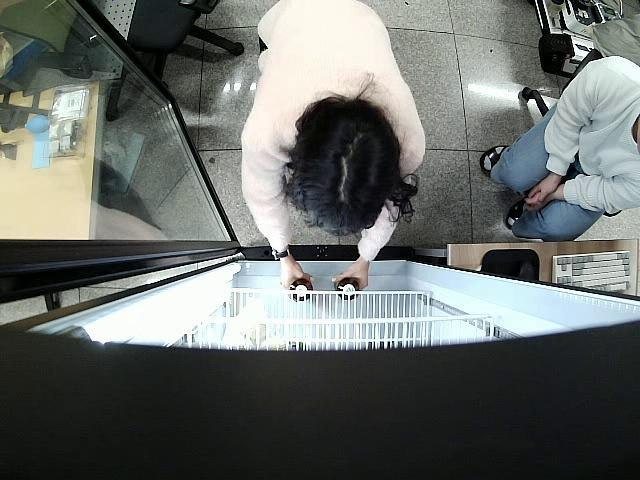19_17cha: (284, 270, 315, 302), (329, 277, 360, 303)
